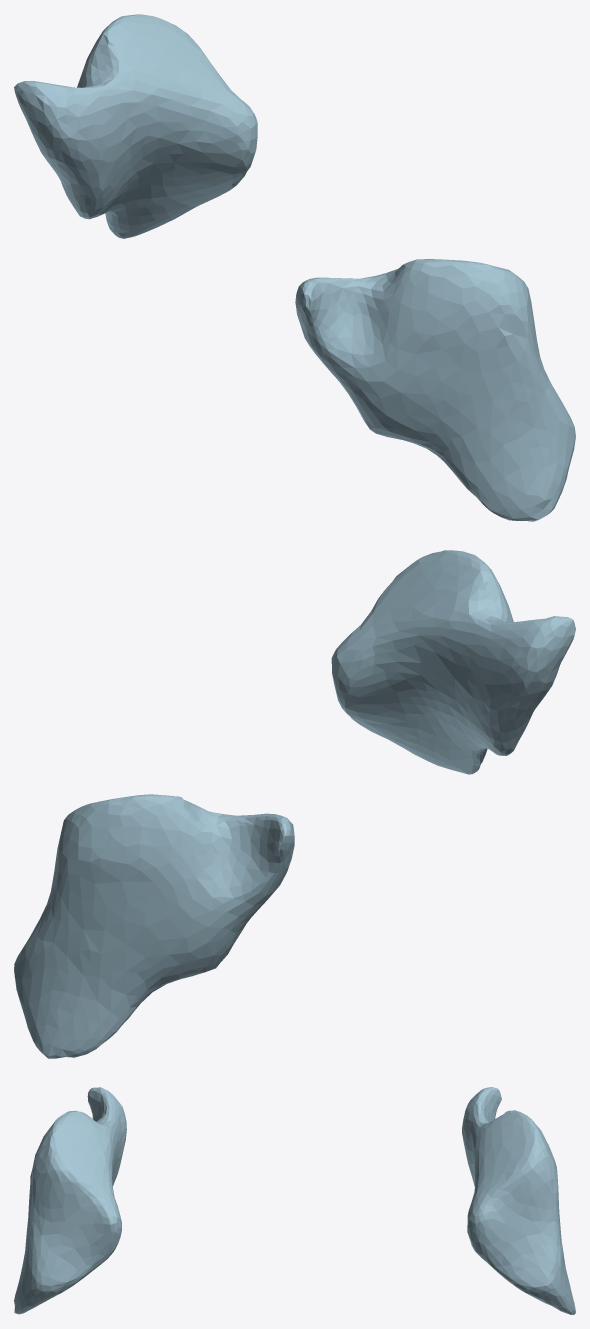
3 views of the same model, one above another, from view 1: azimuth 30°, elevation 25°; view 2: azimuth 150°, elevation 25°; view 3: azimuth 270°, elevation 25° (orthographic). The views are drawn at different scales.
Parts seen in each view (by area): view 1: 403.obj; view 2: 403.obj; view 3: 403.obj.
Part boxes in pixels (x1,y1,x2,y2): 403.obj: (14,14,575,521); 403.obj: (14,550,575,1058); 403.obj: (14,1087,575,1314).
Size of the model in its own units: 1842 by 1853 by 5308.
